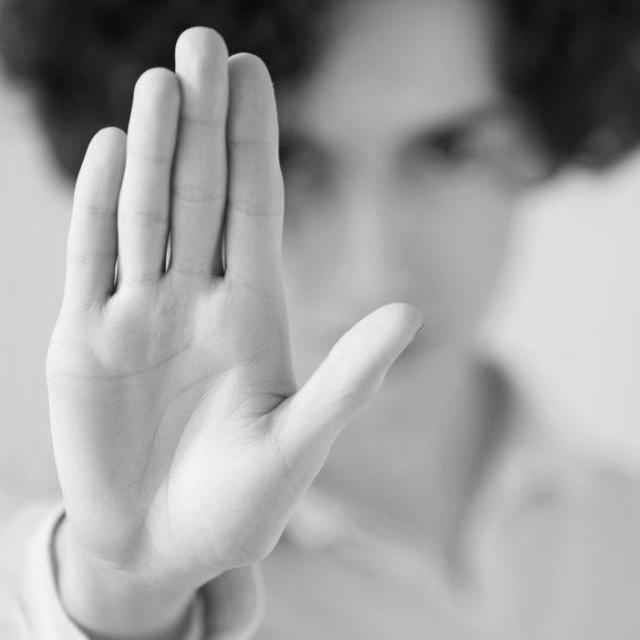stop: (39, 21, 430, 592)
